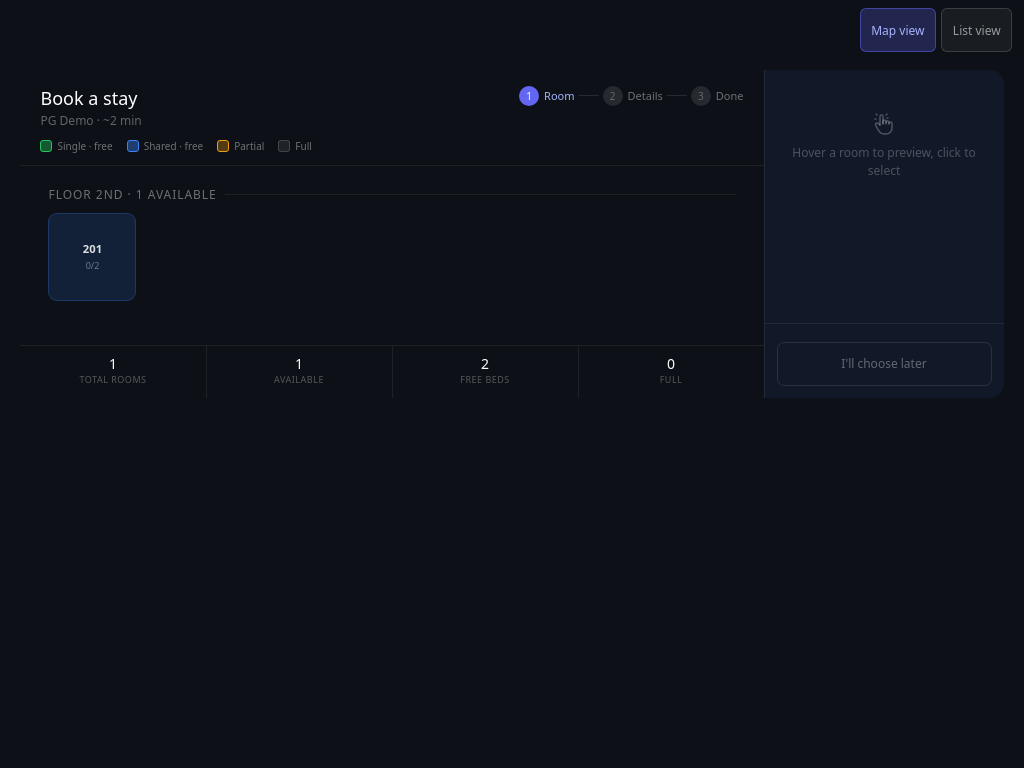
Test case: PublicBookingPage › shows sticky continue after selecting a list room
What coordinates should you click on to do the following:
click the button "List view"
I would click on:
 (977, 30)
Its box is [942, 8, 1012, 52].
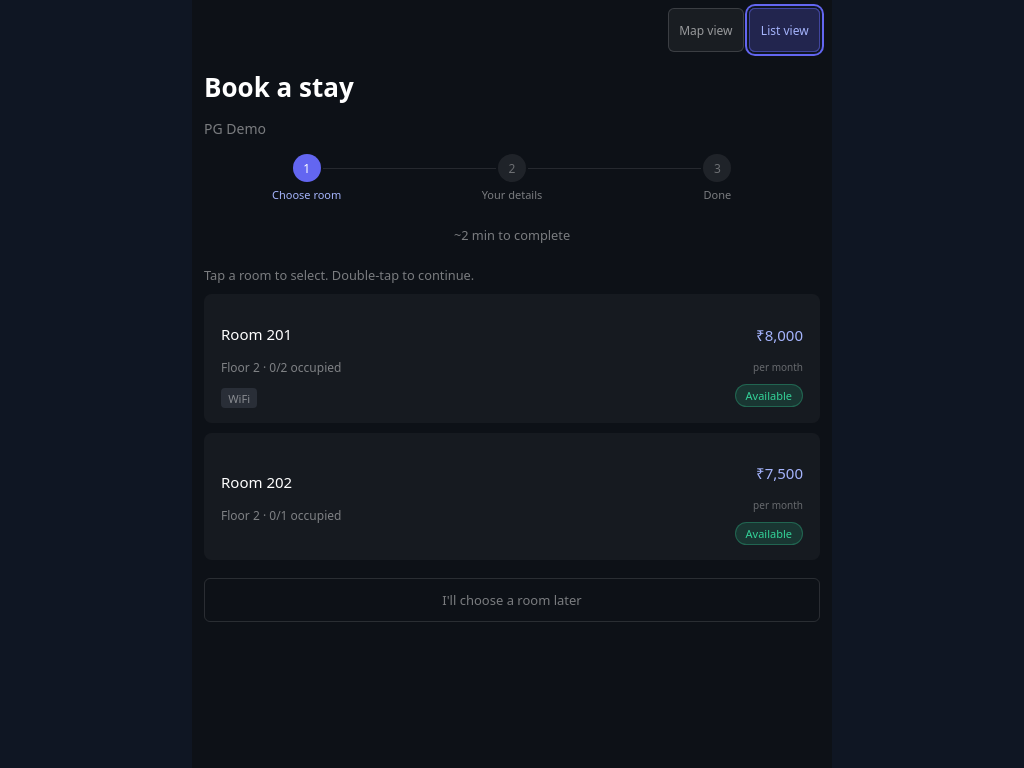
What coordinates should you click on to do the following:
click the button "Room 202 Floor 2 · 0/1 occupied ₹7,500 per month Available"
I would click on:
 (244, 482)
Its box is [204, 433, 820, 560].
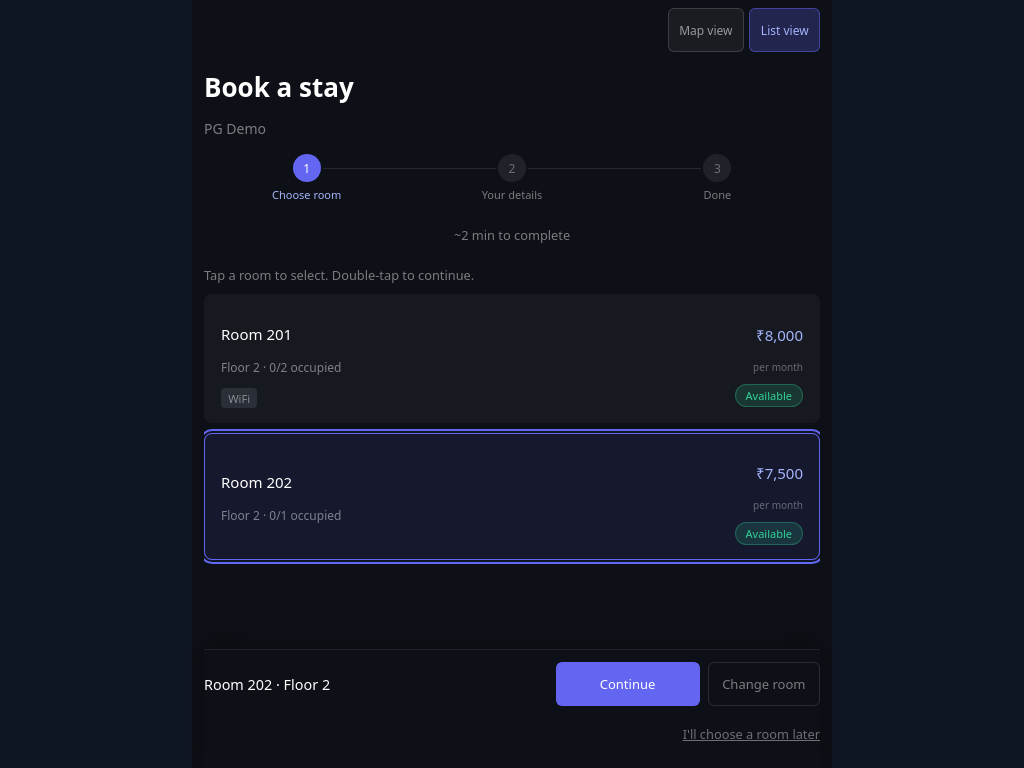
Now the button "I'll choose a room later" is shown, box [683, 712, 820, 756]
Now the element named "Room selection actions" is shown, box [204, 649, 820, 767]
Now the button "Continue" is shown, box [556, 662, 700, 706]
